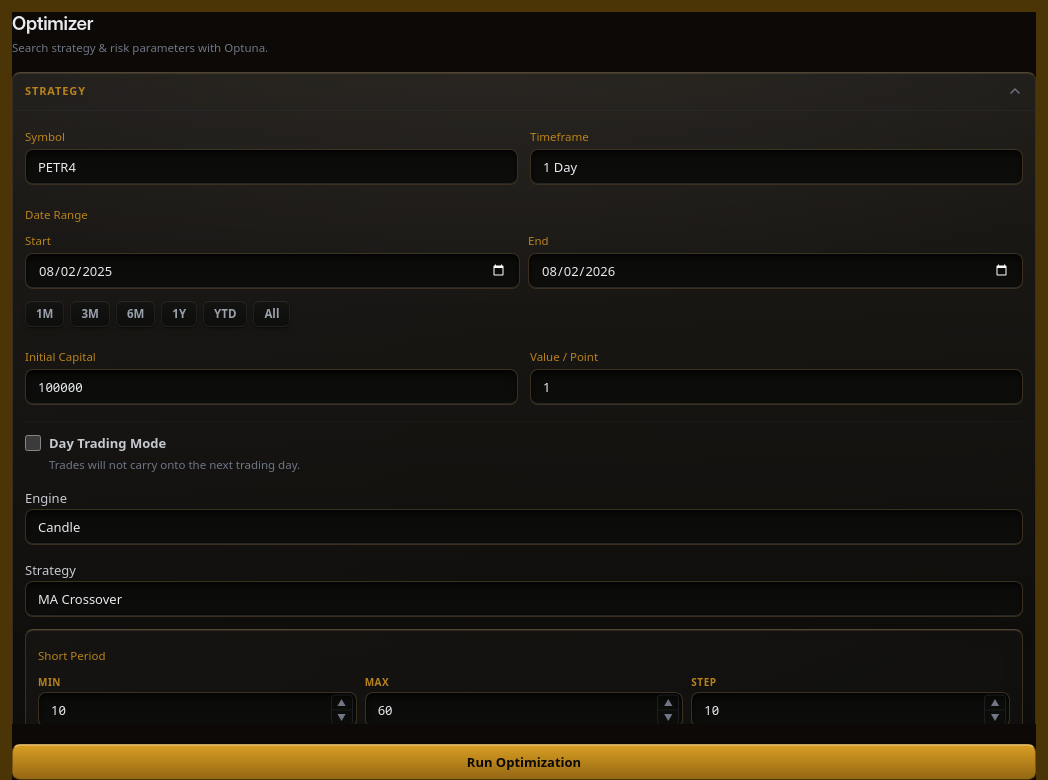
Test case: OptimizeConfigForm › filters strategies by engine and resets selection when switching
The image size is (1048, 780).
Expected: the dropdown labelled "Strategy" shows "MA Crossover", [25,581,1023,617]
Select "Tick" in the dropdown labelled "Engine" at (524, 527), box [25,509,1023,545]
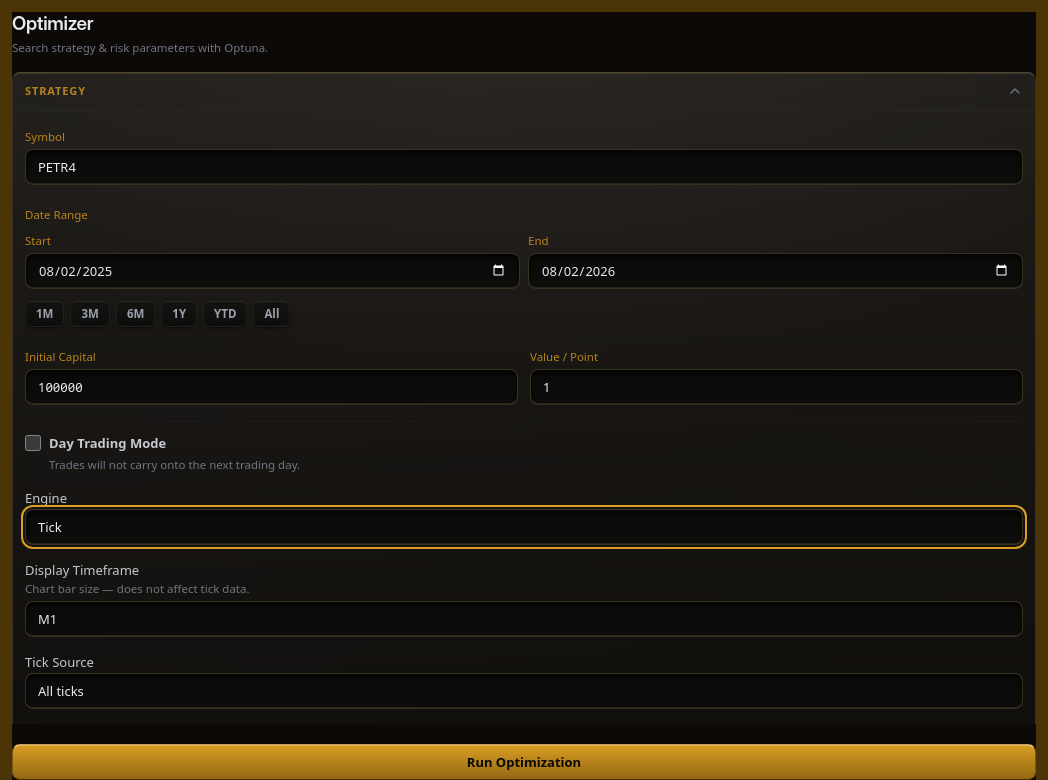
Expected: the dropdown labelled "Display Timeframe" shows "M1", [25,601,1023,637]
Expected: the dropdown labelled "Tick Source" shows "All ticks", [25,673,1023,709]
Select "Candle" in the dropdown labelled "Engine" at (524, 527), box [25,509,1023,545]
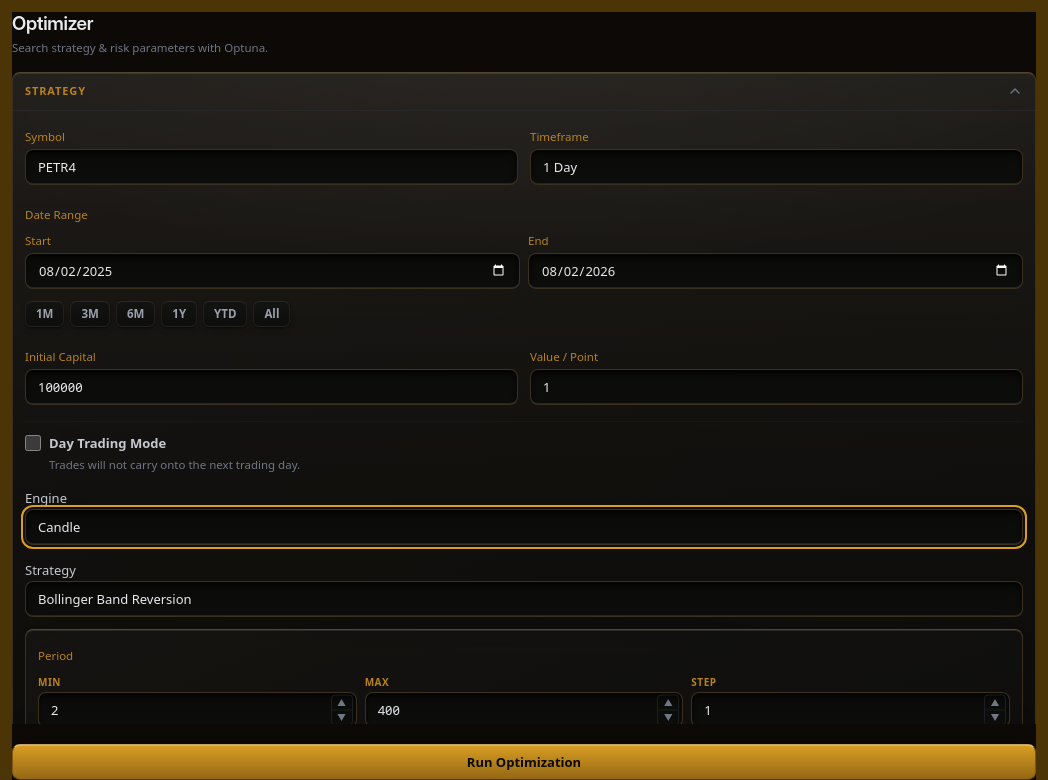
Expected: the text "Timeframe" is shown, [530,128,589,144]
Expected: the dropdown labelled "Strategy" shows "Bollinger Band Reversion", [25,581,1023,617]
Expected: the label labelled "Display Timeframe" is gone
